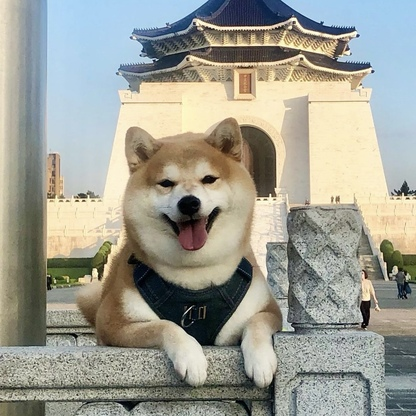shiba: (56, 109, 308, 395)
